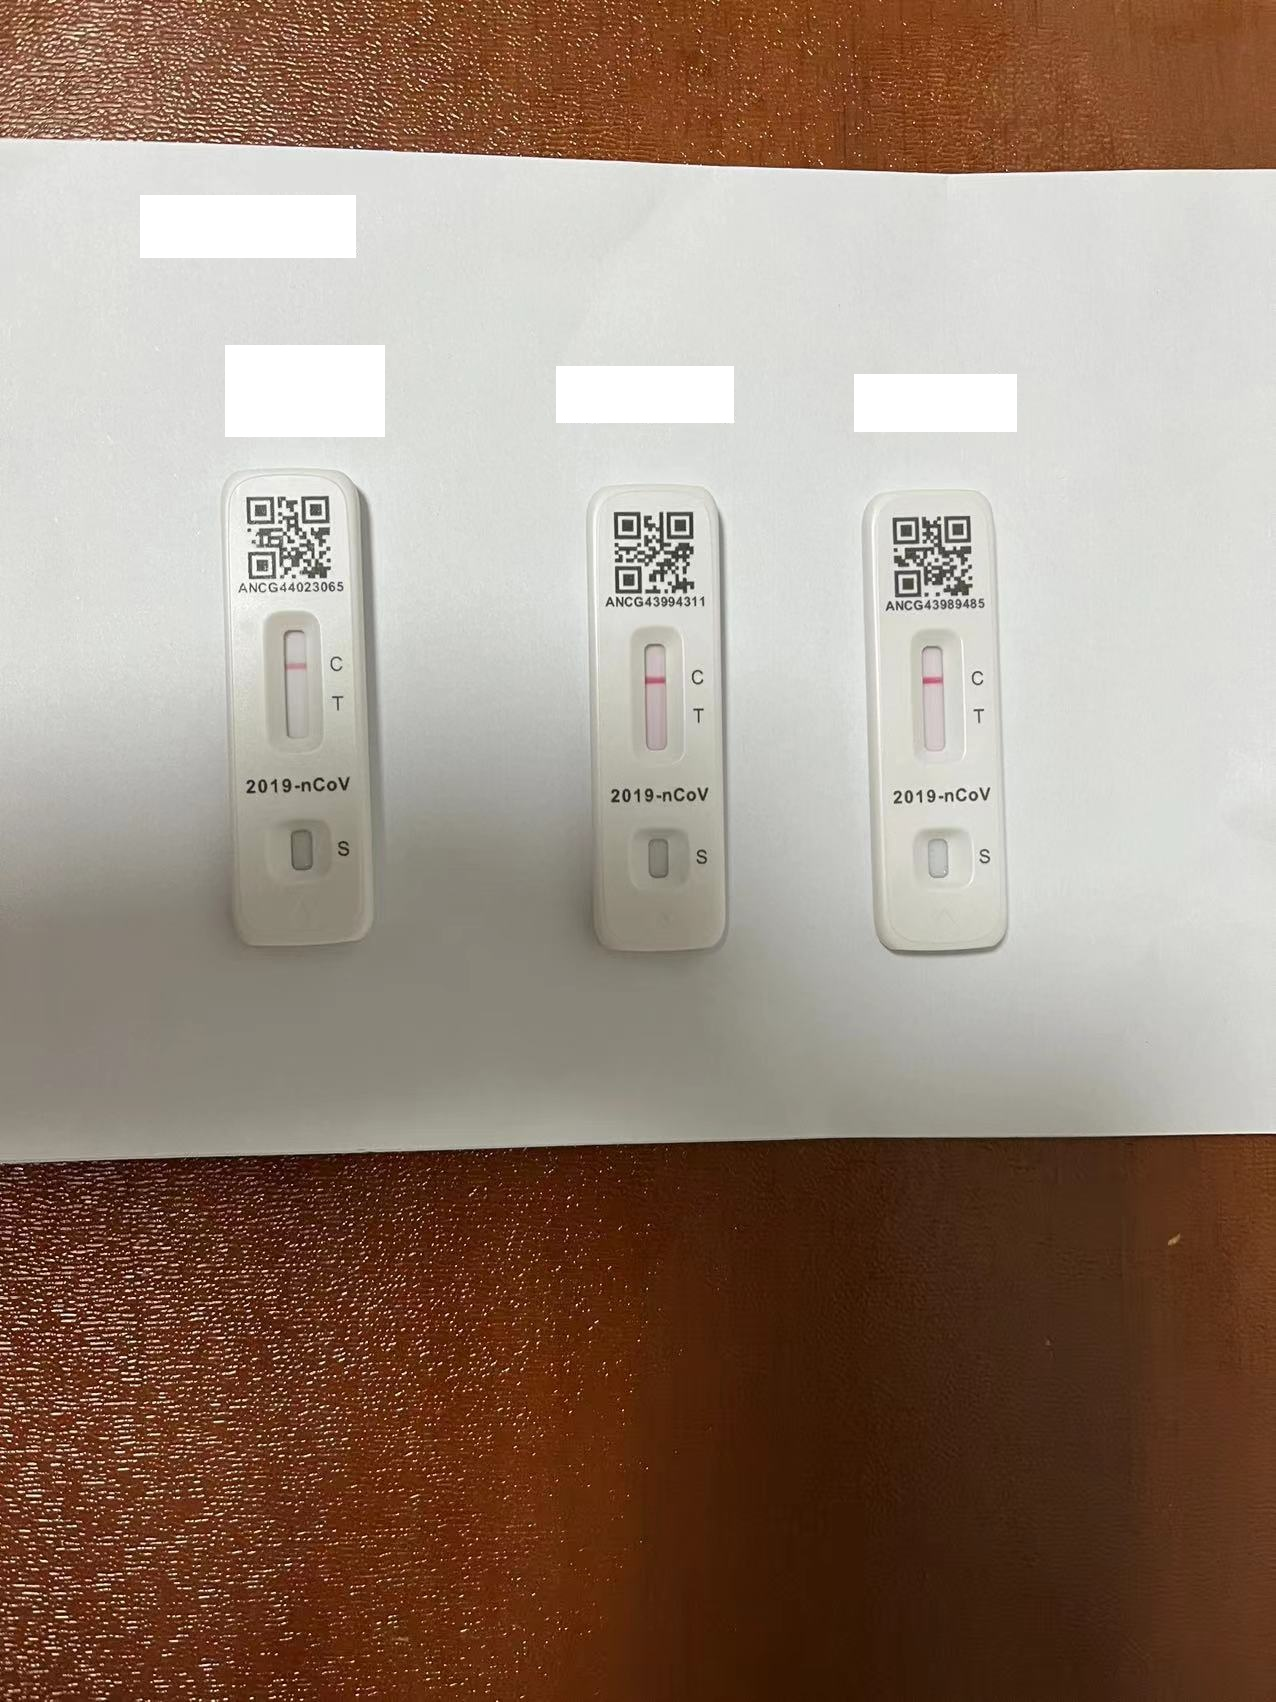negative: (265, 614, 320, 755), (909, 629, 964, 764), (631, 629, 680, 761)
